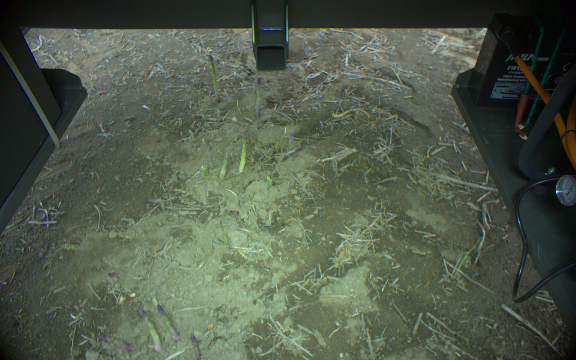aspa: (136, 306, 163, 352), (156, 301, 179, 341), (97, 333, 134, 354), (208, 53, 221, 100), (253, 76, 263, 117), (237, 137, 247, 174), (187, 333, 200, 360), (219, 148, 229, 180)
